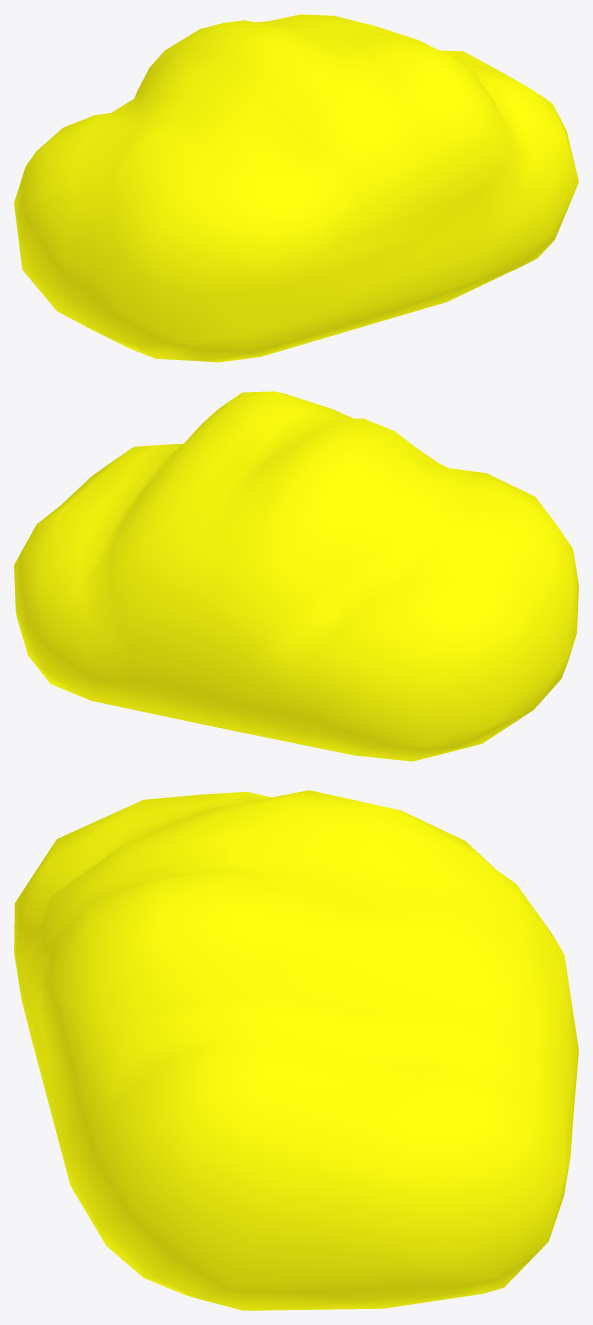
The model's file is SM_Bread_01.glb.
The picture shows the model from 3 angles, top to bottom: view 1: azimuth 30°, elevation 25°; view 2: azimuth 150°, elevation 25°; view 3: azimuth 270°, elevation 25°; orthographic projection. The views are drawn at different scales.
Visible parts, largest first — view 1: SM_Bread_01; view 2: SM_Bread_01; view 3: SM_Bread_01.
Part boxes in pixels (<box>): SM_Bread_01: <box>14,14,578,362</box>; SM_Bread_01: <box>14,391,578,761</box>; SM_Bread_01: <box>14,790,578,1310</box>.
Bounding box in the file's own units: 0.2969 × 0.1428 × 0.2097.
Materials: 1 (1 with a texture image).
